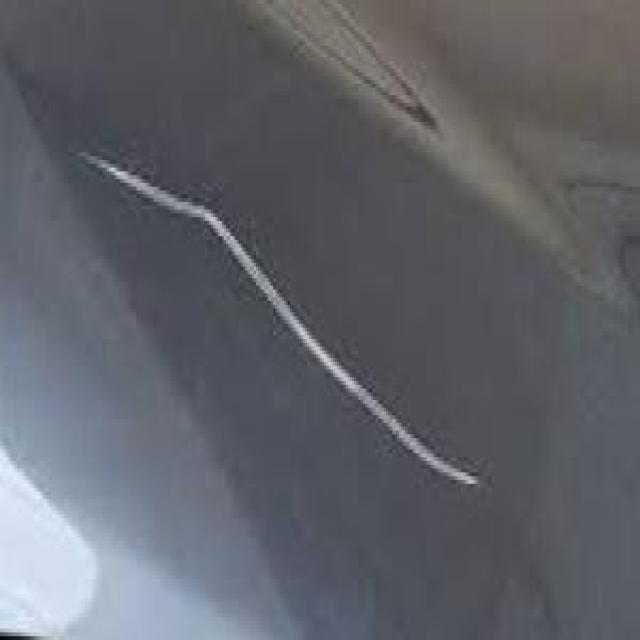scratch: (64, 137, 486, 495)
